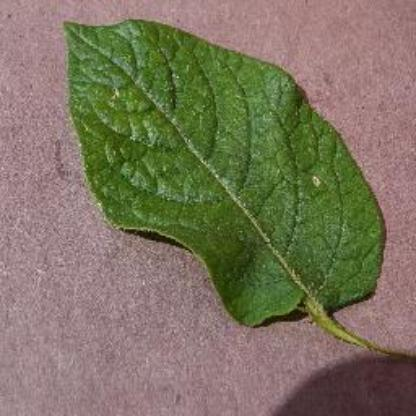Healthy-plant: (49, 14, 402, 356)
